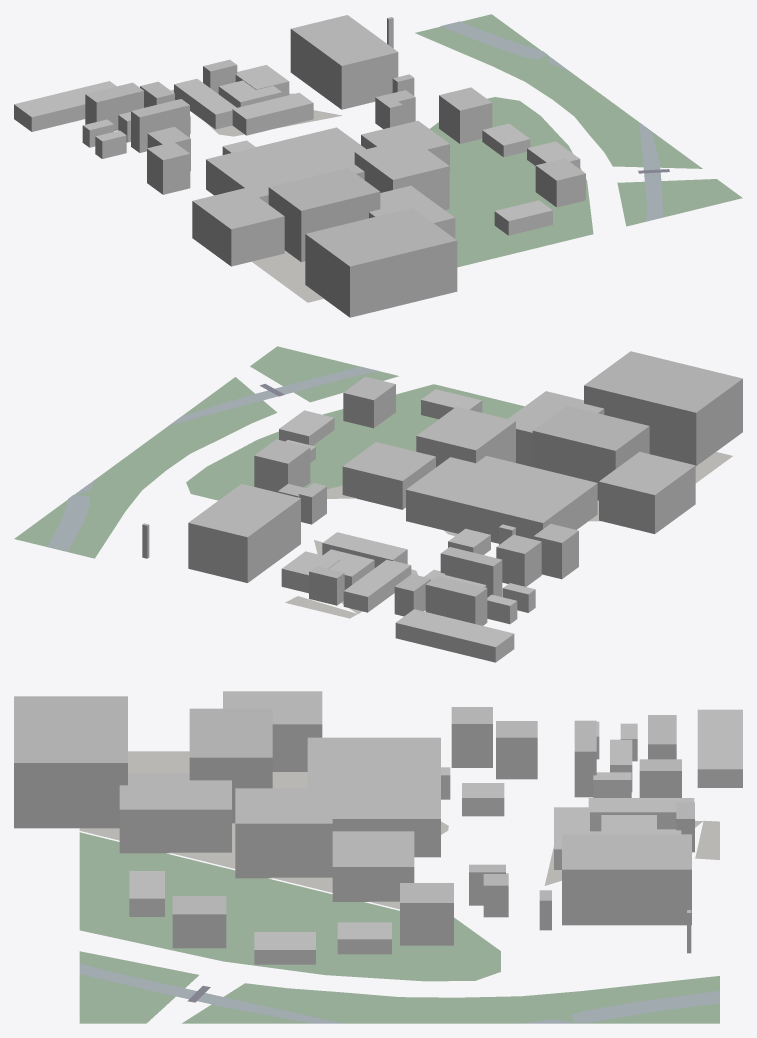
Rendered from 116_113_mid.glb.
3 views of the same model, one above another, from view 1: azimuth 30°, elevation 25°; view 2: azimuth 150°, elevation 25°; view 3: azimuth 270°, elevation 25° (orthographic). The views are drawn at different scales.
Size of the model in its own units: 538 by 57.98 by 569.
